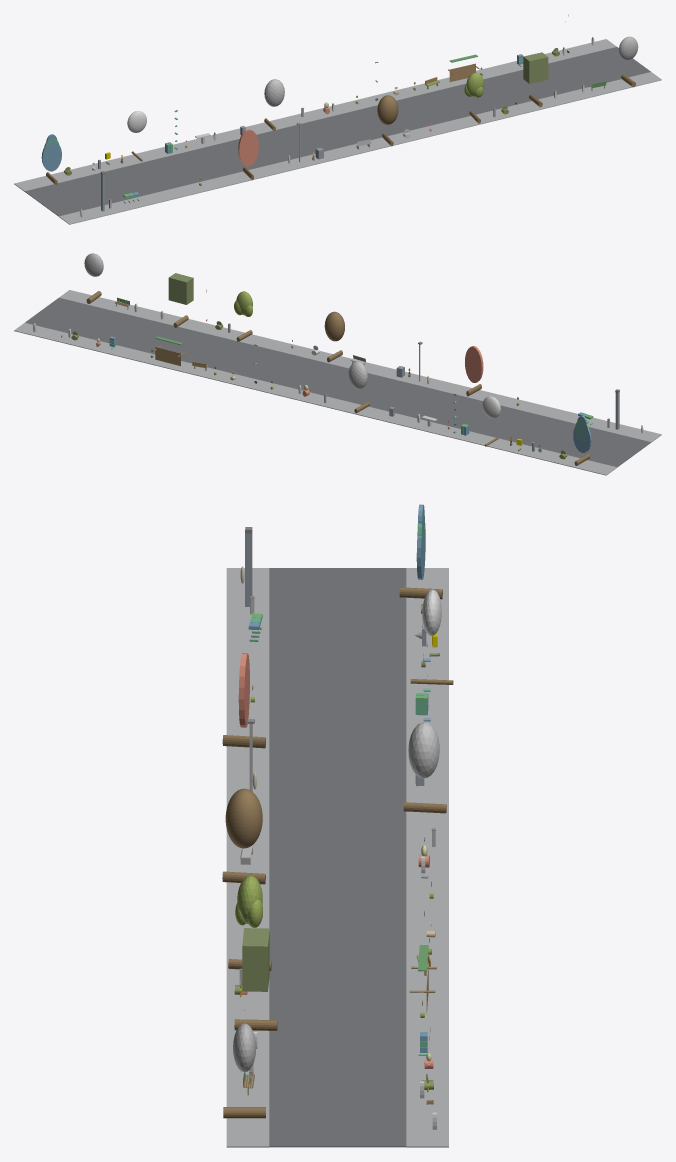
3 renders of one model, top to bottom at view 1: azimuth 30°, elevation 25°; view 2: azimuth 150°, elevation 25°; view 3: azimuth 270°, elevation 25°, orthographic. The views are drawn at different scales.
Parts seen in each view (by area): view 1: road_slab, sidewalk_left, sidewalk_right, inst_0024, inst_0020, inst_0018, inst_0022, inst_0021, inst_0023, inst_0025, inst_0026, inst_0019; view 2: road_slab, sidewalk_right, sidewalk_left, inst_0024, inst_0020, inst_0018, inst_0022, inst_0021, inst_0023, inst_0025, inst_0026, inst_0019; view 3: road_slab, sidewalk_right, sidewalk_left, inst_0024, inst_0022, inst_0021, inst_0025, inst_0023, inst_0020, inst_0018, inst_0019.
Boxes of the visible parts, x1,y1,x2,y2 form: road_slab: (24,47,650,216); sidewalk_left: (59,72,661,224); sidewalk_right: (14,39,616,191); inst_0024: (523,52,548,107); inst_0020: (238,129,258,180); inst_0018: (41,134,61,184); inst_0022: (377,95,398,146); inst_0021: (264,79,284,130); inst_0023: (464,72,484,123); inst_0025: (619,36,638,87); inst_0026: (448,54,479,81); inst_0019: (127,111,146,161); road_slab: (25,297,650,467); sidewalk_right: (14,323,616,475); sidewalk_left: (59,290,661,442); inst_0024: (168,273,193,327); inst_0020: (465,346,483,396); inst_0018: (573,415,591,465); inst_0022: (324,311,344,362); inst_0021: (348,361,369,413); inst_0023: (234,291,252,341); inst_0025: (84,253,103,303); inst_0026: (153,336,184,366); inst_0019: (482,396,500,446); road_slab: (269,568,406,1147); sidewalk_right: (406,568,448,1147); sidewalk_left: (226,568,269,1147); inst_0024: (234,928,277,1030); inst_0022: (222,788,265,884); inst_0021: (403,722,446,813); inst_0025: (223,1023,265,1118); inst_0023: (228,875,271,970); inst_0020: (222,653,265,748); inst_0018: (399,504,442,599); inst_0019: (410,589,453,684).
Size of the model in its own units: 80 by 6.08 by 13.51.
